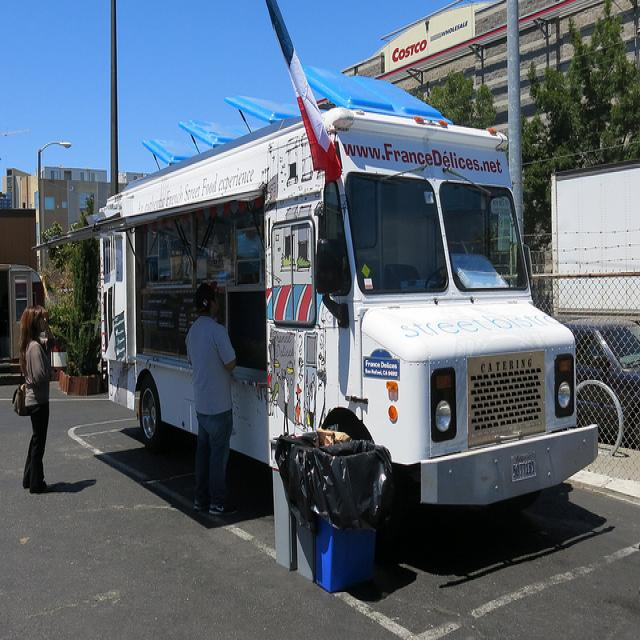Vehicle: (32, 64, 598, 515), (550, 165, 640, 323), (563, 319, 640, 449)
